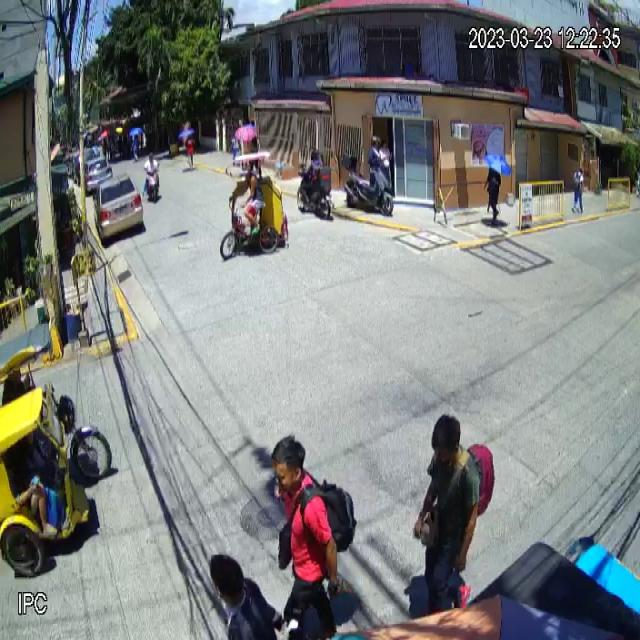Motorcycle: (343, 160, 394, 217)
Tricycle: (0, 325, 113, 577)
